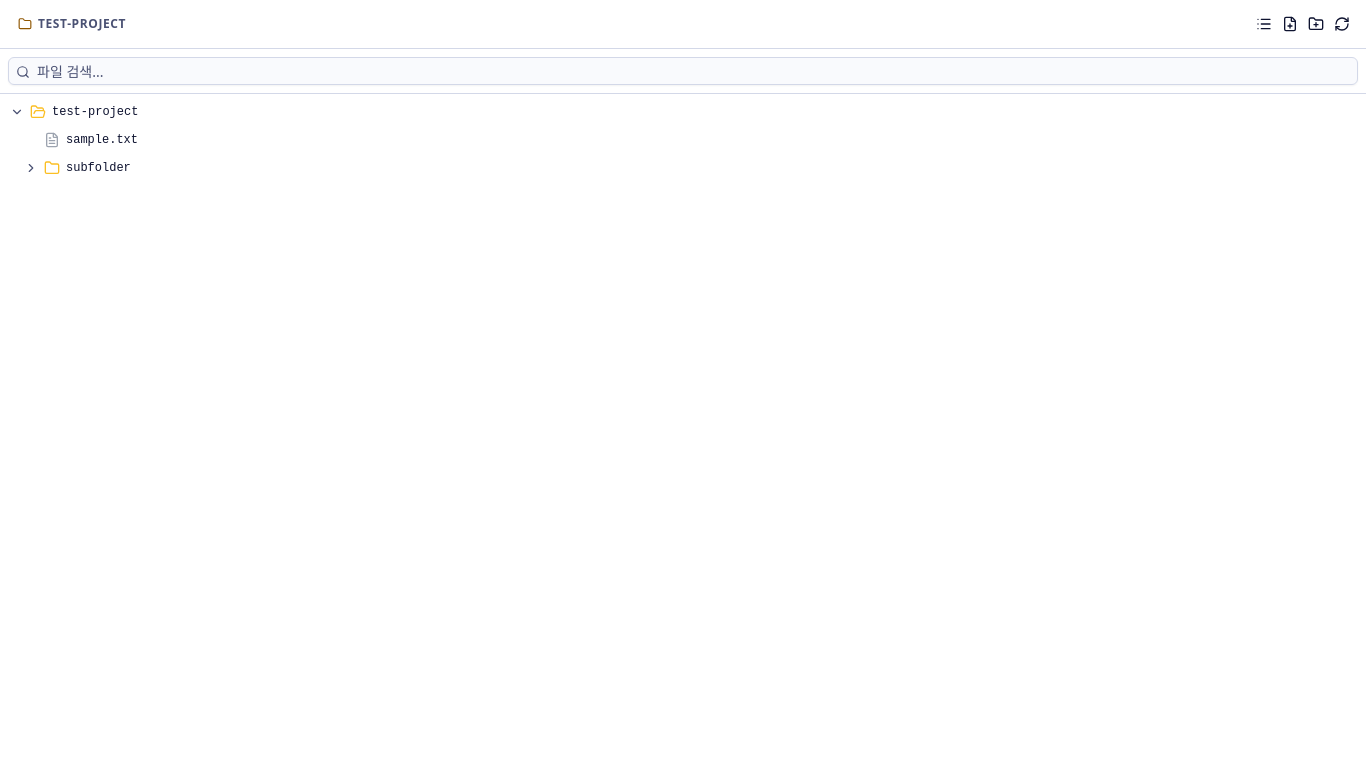
Test: FileTree Context Menus › renders empty space context menu items on right clicking empty space
Expected: the 1st text "test-project" is shown, [38,16,126,32]
// Right click on the container root or empty body area
Right-click the element showing "test-project test-project sample.txt subfolder".
right_click(683, 384)  # box [0,0,1365,767]
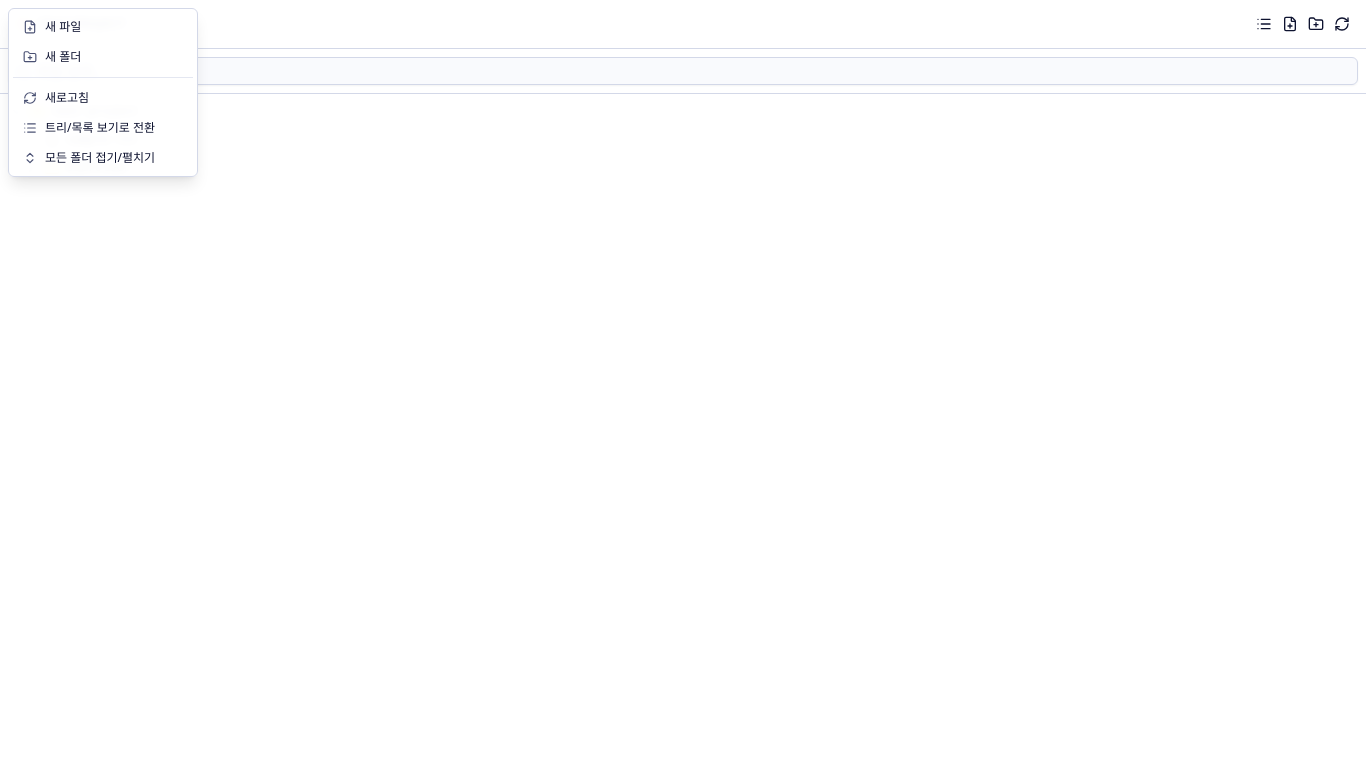
Now the button "새 파일" is shown, box [13,13,193,41]
Now the button "새 폴더" is shown, box [13,43,193,71]
Now the button "트리/목록 보기로 전환" is shown, box [13,114,193,142]
